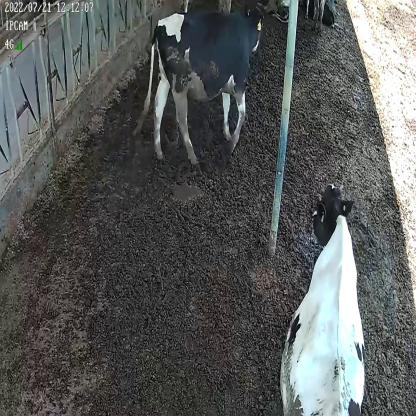cow: (277, 181, 368, 416), (134, 10, 264, 168)
